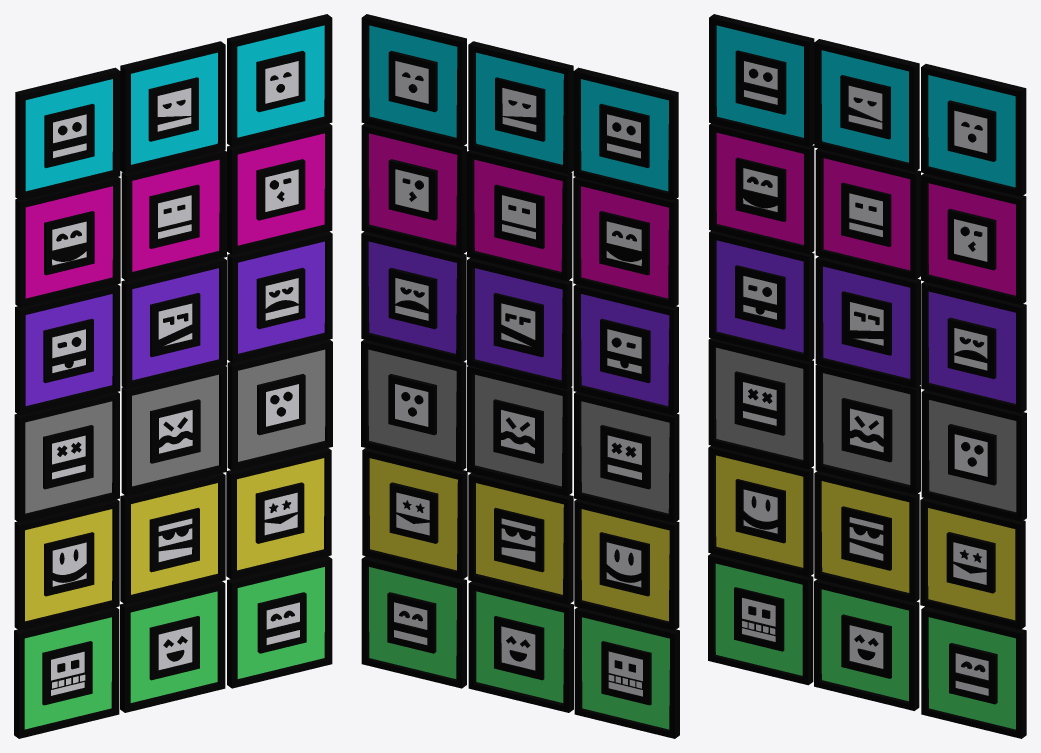
The model's file is robot_faces_pins.glb.
The picture shows the model from 3 angles, left to right: view 1: azimuth 30°, elevation 25°; view 2: azimuth 150°, elevation 25°; view 3: azimuth 330°, elevation 25°; orthographic projection.
Parts seen in each view (by area): view 1: B3 Teal.014, B3 Teal.012, B3 Teal.011, B3 Teal.024, B3 Teal.020, B3 Teal.026, B3 Teal.025, B3 Teal.016, B3 Teal.002, B3 Teal.023, B3 Teal.022, B3 Teal.013 (+6 smaller); view 2: B3 Teal.014, B3 Teal.012, B3 Teal.011, B3 Teal.024, B3 Teal.020, B3 Teal.026, B3 Teal.025, B3 Teal.016, B3 Teal.002, B3 Teal.023, B3 Teal.022, B3 Teal.013 (+6 smaller); view 3: B3 Teal.012, B3 Teal.014, B3 Teal.011, B3 Teal.024, B3 Teal.020, B3 Teal.026, B3 Teal.025, B3 Teal.016, B3 Teal.022, B3 Teal.002, B3 Teal.013, B3 Teal.023 (+6 smaller).
Boxes of the visible parts, x1,y1,x2,y2 form: B3 Teal.014: [15, 67, 120, 200]; B3 Teal.012: [227, 14, 332, 146]; B3 Teal.011: [120, 41, 225, 174]; B3 Teal.024: [227, 556, 332, 688]; B3 Teal.020: [121, 257, 226, 389]; B3 Teal.026: [120, 581, 225, 712]; B3 Teal.025: [226, 448, 331, 579]; B3 Teal.016: [227, 231, 332, 363]; B3 Teal.002: [14, 607, 119, 738]; B3 Teal.023: [120, 473, 225, 604]; B3 Teal.022: [227, 339, 332, 471]; B3 Teal.013: [227, 123, 332, 254]; B3 Teal.014: [573, 67, 678, 200]; B3 Teal.012: [361, 14, 466, 146]; B3 Teal.011: [468, 41, 573, 174]; B3 Teal.024: [361, 556, 466, 688]; B3 Teal.020: [467, 257, 572, 389]; B3 Teal.026: [468, 581, 573, 712]; B3 Teal.025: [362, 448, 467, 579]; B3 Teal.016: [361, 231, 466, 363]; B3 Teal.002: [574, 607, 679, 738]; B3 Teal.023: [468, 473, 573, 604]; B3 Teal.022: [361, 339, 466, 471]; B3 Teal.013: [361, 123, 466, 254]; B3 Teal.012: [921, 64, 1026, 196]; B3 Teal.014: [709, 14, 814, 146]; B3 Teal.011: [814, 39, 919, 171]; B3 Teal.024: [921, 606, 1026, 738]; B3 Teal.020: [815, 256, 920, 388]; B3 Teal.026: [814, 579, 919, 710]; B3 Teal.025: [920, 498, 1025, 629]; B3 Teal.016: [921, 281, 1026, 413]; B3 Teal.022: [921, 390, 1026, 521]; B3 Teal.002: [708, 553, 813, 685]; B3 Teal.013: [921, 173, 1026, 304]; B3 Teal.023: [814, 471, 919, 602].
Bounding box in the file's own units: 4.31 × 8.48 × 0.1472.
